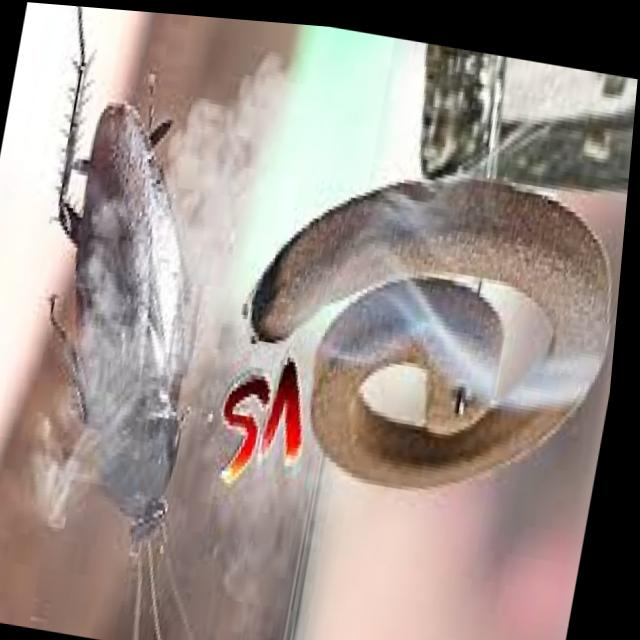Cockroach: (0, 1, 279, 640)
